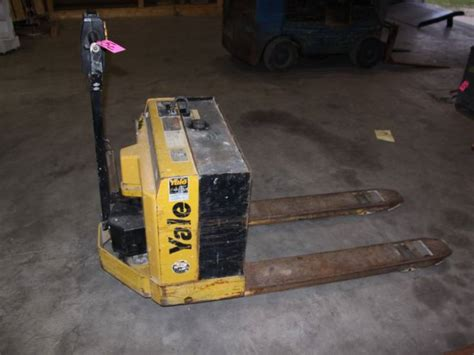Pallet Jack: (79, 10, 453, 305)
